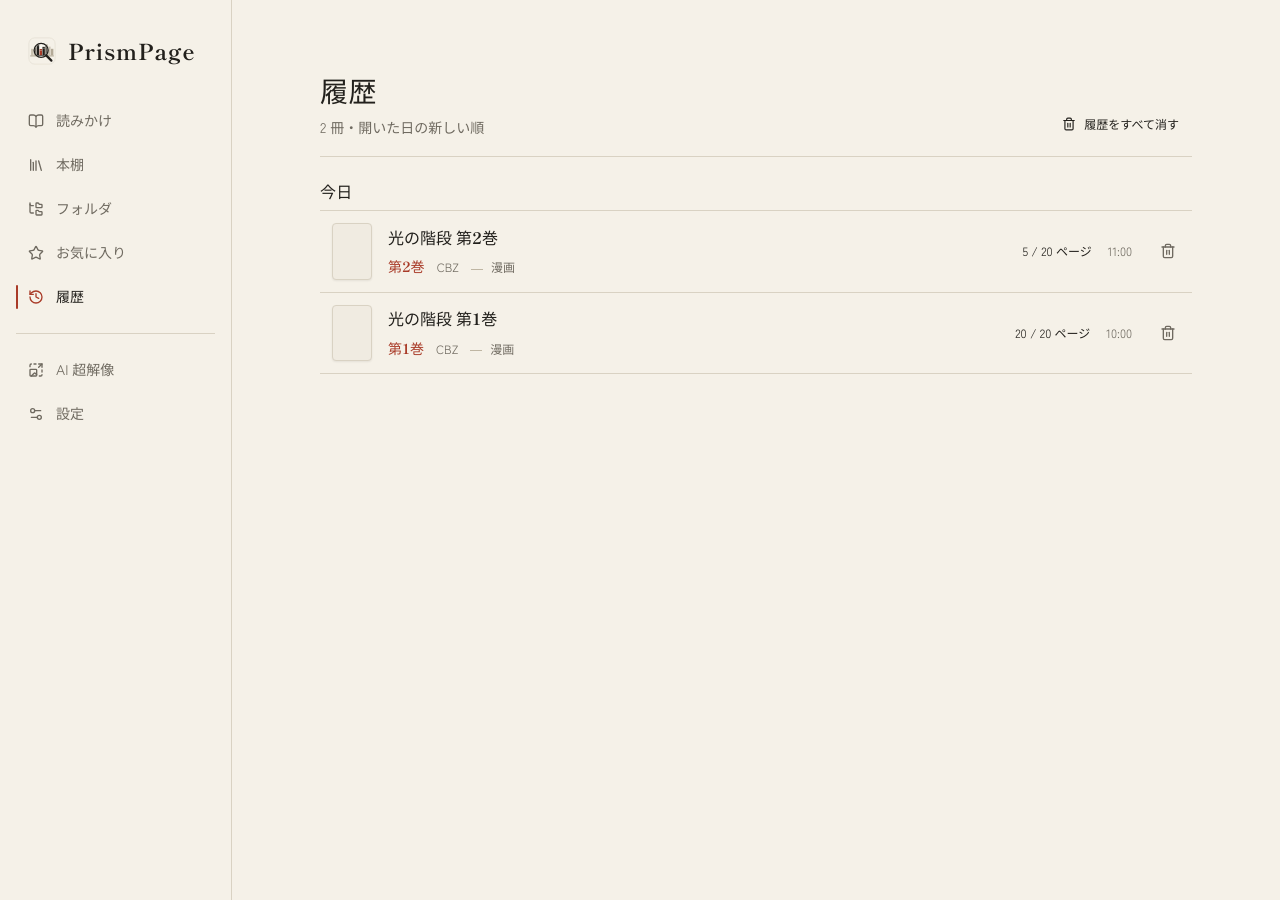
履歴 › 1 冊ずつ消すと一覧を読み直し、すべて消すは確認してから消す
Click the button named "光の階段 第2巻 を履歴から消す".
click(1168, 251)  # box left=1152, top=235, right=1184, bottom=267
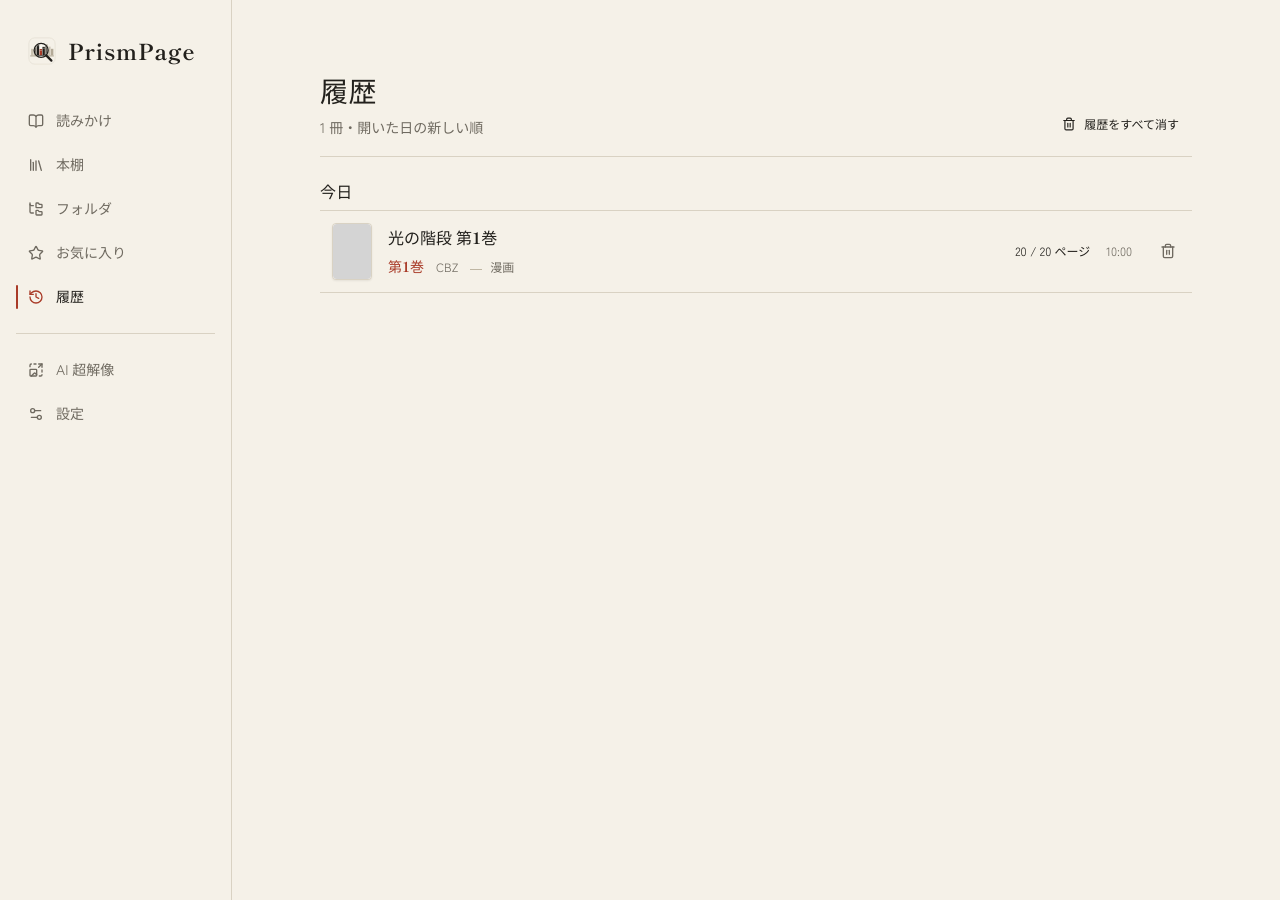
Click the button "履歴をすべて消す".
click(1121, 124)  # box left=1049, top=108, right=1192, bottom=140
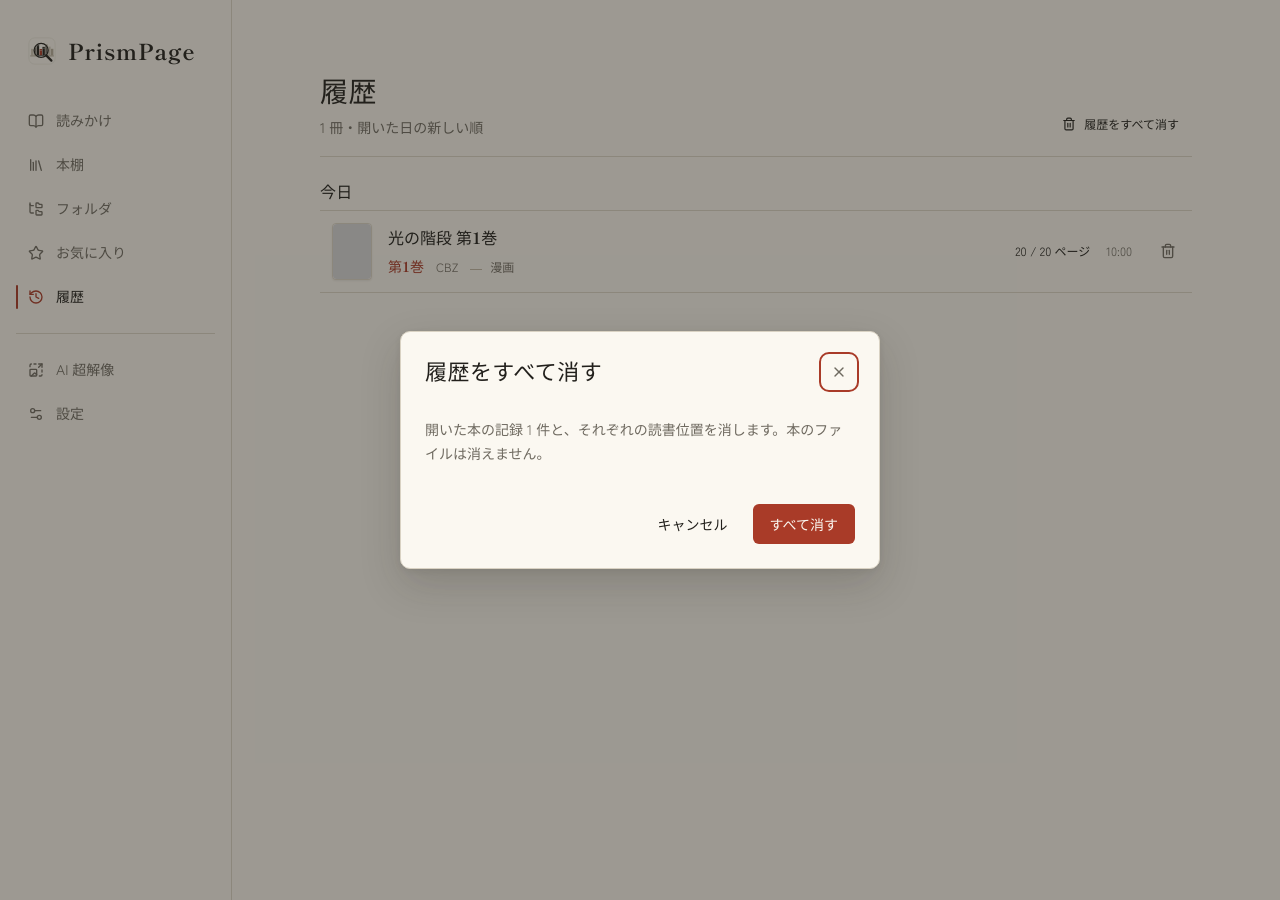
Click the button "すべて消す".
click(804, 524)  # box left=752, top=504, right=855, bottom=544
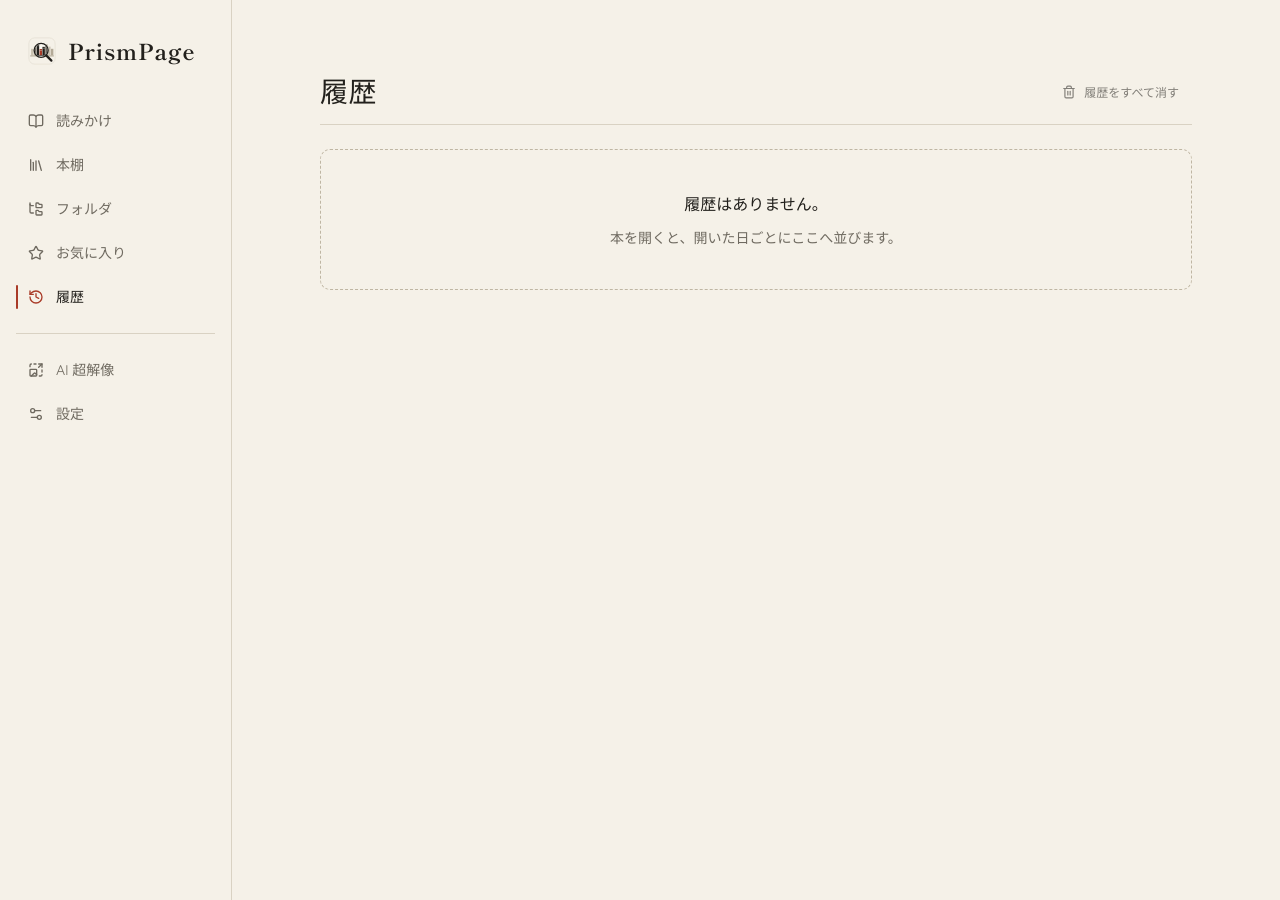
expect the text "履歴はありません。" is shown: met, box left=684, top=191, right=828, bottom=215
